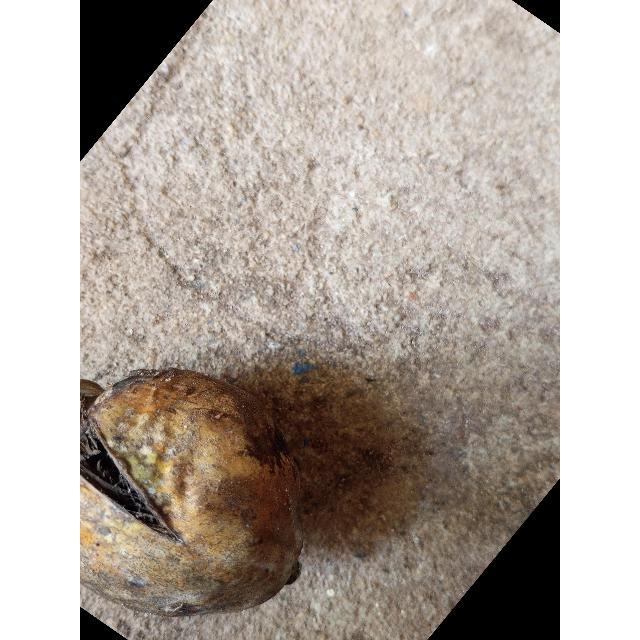damaged: (80, 369, 303, 625)
